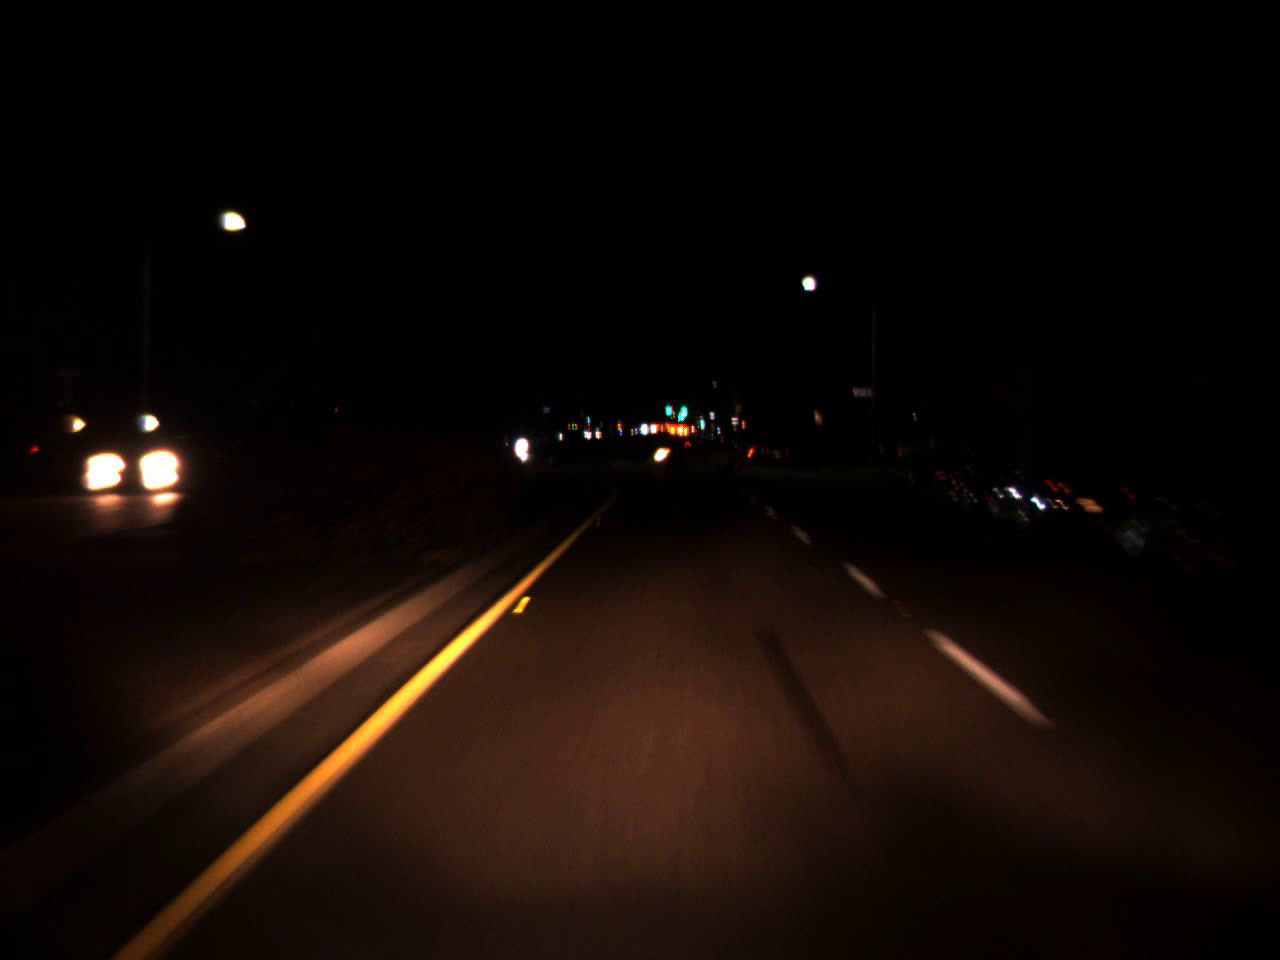go: (676, 396, 690, 417), (663, 395, 672, 419), (698, 408, 705, 432)
